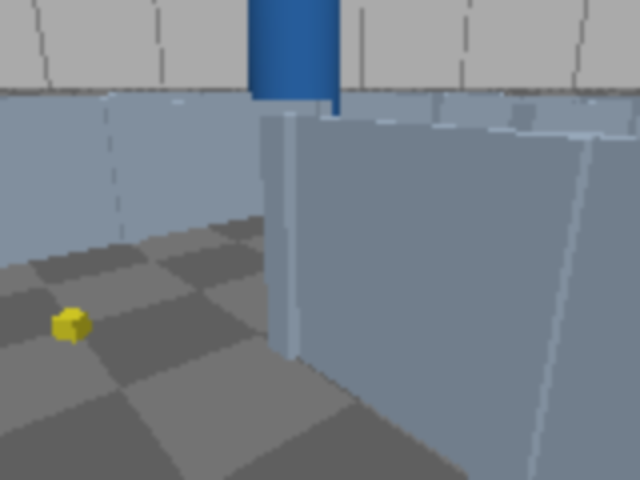puck: (51, 309, 92, 342)
